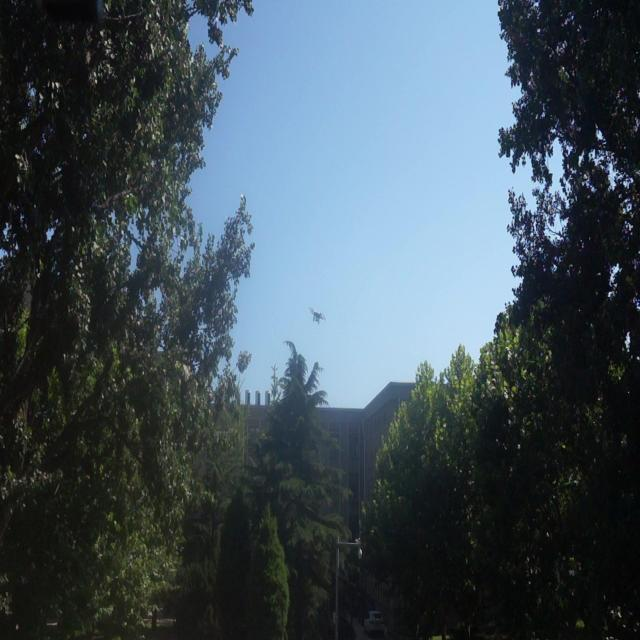drone: (306, 304, 326, 327)
